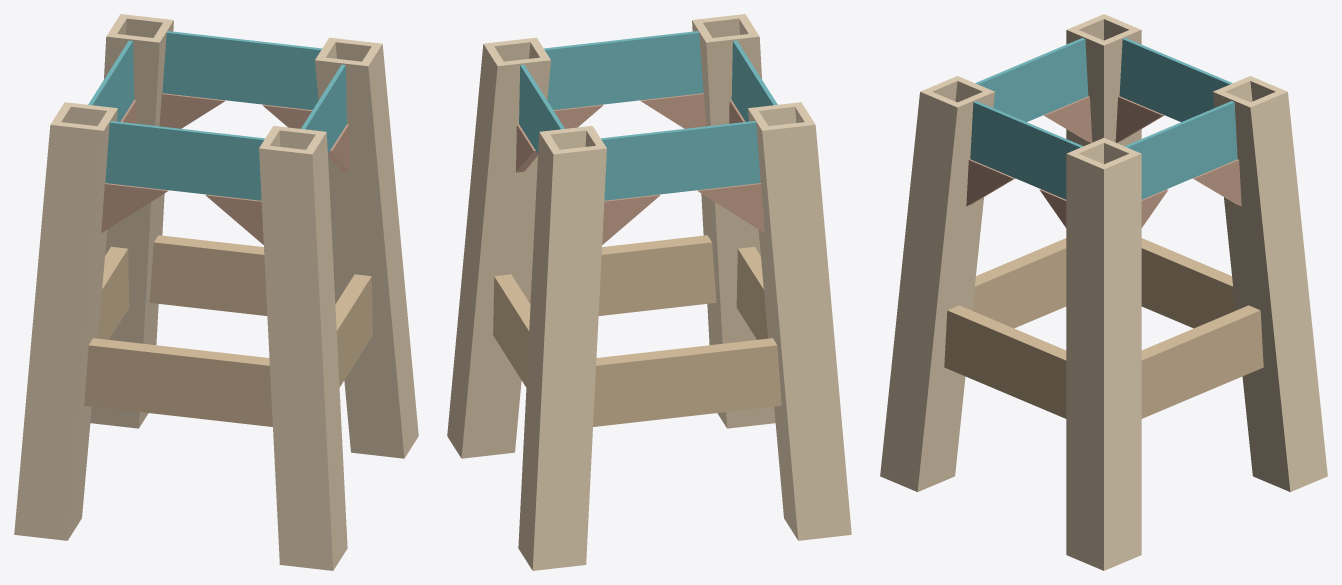
File: R20_ASSEMBLED_DISPLAY_ONLY.glb
3 renders of one model, left to right at view 1: azimuth 30°, elevation 25°; view 2: azimuth 150°, elevation 25°; view 3: azimuth 270°, elevation 25°, orthographic. The views are drawn at different scales.
Parts seen in each view (by area): view 1: A01_LEG1_NEG_P1, A02_LEG4_NEG_P1, A02_LEG2_POS_P1, C01_SIDE4_1_P1, B01_SIDE4_1_P1, B01_SIDE2_1_P1, C01_SIDE2_2_P2, A01_LEG2_NEG_P1, A01_LEG3_POS_P1, A02_LEG1_NEG_P1, A01_LEG4_POS_P1, C01_SIDE1_1_P1 (+24 smaller); view 2: A01_LEG4_NEG_P1, A02_LEG3_NEG_P1, A01_LEG2_POS_P1, C01_SIDE3_1_P1, B01_SIDE3_1_P1, B01_SIDE1_1_P1, C01_SIDE1_2_P2, A01_LEG3_NEG_P1, A02_LEG2_NEG_P1, A02_LEG1_POS_P1, A02_LEG4_POS_P1, A01_LEG1_POS_P1 (+24 smaller); view 3: A01_LEG2_NEG_P1, A01_LEG3_NEG_P1, A02_LEG1_NEG_P1, A02_LEG2_NEG_P1, A01_LEG1_POS_P1, A02_LEG3_POS_P1, C01_SIDE1_1_P1, C01_SIDE2_1_P1, B01_SIDE1_1_P1, B01_SIDE2_1_P1, B01_SIDE3_1_P1, B01_SIDE4_1_P1 (+25 smaller).
Boxes of the visible parts, bbox=[...] form: A01_LEG1_NEG_P1: bbox=[259, 146, 334, 570]; A02_LEG4_NEG_P1: bbox=[21, 124, 97, 539]; A02_LEG2_POS_P1: bbox=[323, 59, 398, 457]; C01_SIDE4_1_P1: bbox=[84, 343, 272, 426]; B01_SIDE4_1_P1: bbox=[105, 121, 264, 200]; B01_SIDE2_1_P1: bbox=[162, 31, 321, 109]; C01_SIDE2_2_P2: bbox=[149, 240, 336, 315]; A01_LEG2_NEG_P1: bbox=[364, 43, 418, 458]; A01_LEG3_POS_P1: bbox=[90, 34, 160, 428]; A02_LEG1_NEG_P1: bbox=[311, 135, 345, 566]; A01_LEG4_POS_P1: bbox=[63, 107, 117, 540]; C01_SIDE1_1_P1: bbox=[336, 275, 372, 386]; A01_LEG4_NEG_P1: bbox=[761, 123, 851, 540]; A02_LEG3_NEG_P1: bbox=[535, 147, 602, 569]; A01_LEG2_POS_P1: bbox=[460, 58, 550, 458]; C01_SIDE3_1_P1: bbox=[593, 343, 781, 426]; B01_SIDE3_1_P1: bbox=[601, 121, 760, 200]; B01_SIDE1_1_P1: bbox=[544, 31, 703, 109]; C01_SIDE1_2_P2: bbox=[529, 240, 716, 315]; A01_LEG3_NEG_P1: bbox=[518, 131, 557, 570]; A02_LEG2_NEG_P1: bbox=[449, 47, 499, 454]; A02_LEG1_POS_P1: bbox=[709, 35, 771, 427]; A02_LEG4_POS_P1: bbox=[750, 111, 795, 536]; A01_LEG1_POS_P1: bbox=[692, 19, 731, 428]; A01_LEG2_NEG_P1: bbox=[1066, 152, 1106, 570]; A01_LEG3_NEG_P1: bbox=[1247, 90, 1327, 491]; A02_LEG1_NEG_P1: bbox=[886, 93, 953, 489]; A02_LEG2_NEG_P1: bbox=[1101, 155, 1141, 568]; A01_LEG1_POS_P1: bbox=[914, 90, 994, 491]; A02_LEG3_POS_P1: bbox=[1219, 93, 1285, 489]; C01_SIDE1_1_P1: bbox=[944, 309, 1066, 418]; C01_SIDE2_1_P1: bbox=[1141, 309, 1263, 418]; B01_SIDE1_1_P1: bbox=[970, 101, 1083, 199]; B01_SIDE2_1_P1: bbox=[1124, 101, 1237, 199]; B01_SIDE3_1_P1: bbox=[1119, 38, 1232, 121]; B01_SIDE4_1_P1: bbox=[975, 38, 1088, 121].
Size of the model in its own units: 0.4221 by 0.4 by 0.4221.
